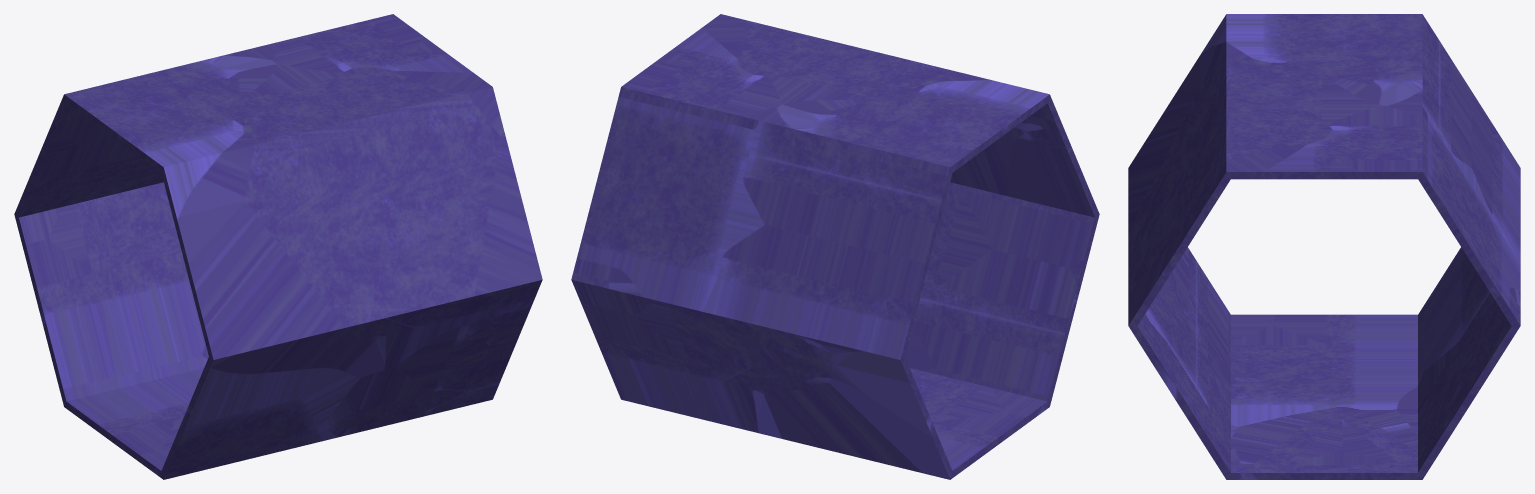
Rendered from PortalBody.fbx.
The picture shows the model from 3 angles, left to right: view 1: azimuth 30°, elevation 25°; view 2: azimuth 150°, elevation 25°; view 3: azimuth 270°, elevation 25°; orthographic projection.
Visible parts, largest first — view 1: PortalBody; view 2: PortalBody; view 3: PortalBody.
Boxes of the visible parts, x1,y1,x2,y2 form: PortalBody: (14,14,542,479); PortalBody: (571,14,1099,479); PortalBody: (1128,14,1520,479).
Bounding box in the file's own units: 560 × 508 × 587.
